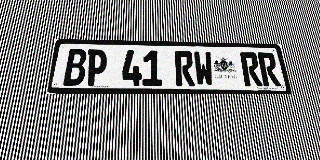1: (142, 50, 162, 86)
4: (122, 50, 142, 86)
B: (63, 49, 87, 86)
P: (85, 49, 108, 86)
R: (239, 52, 263, 86), (257, 52, 281, 86), (174, 51, 195, 86)
W: (193, 51, 215, 86)
